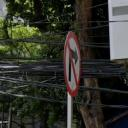NoVirarDireita: (61, 28, 85, 100)
